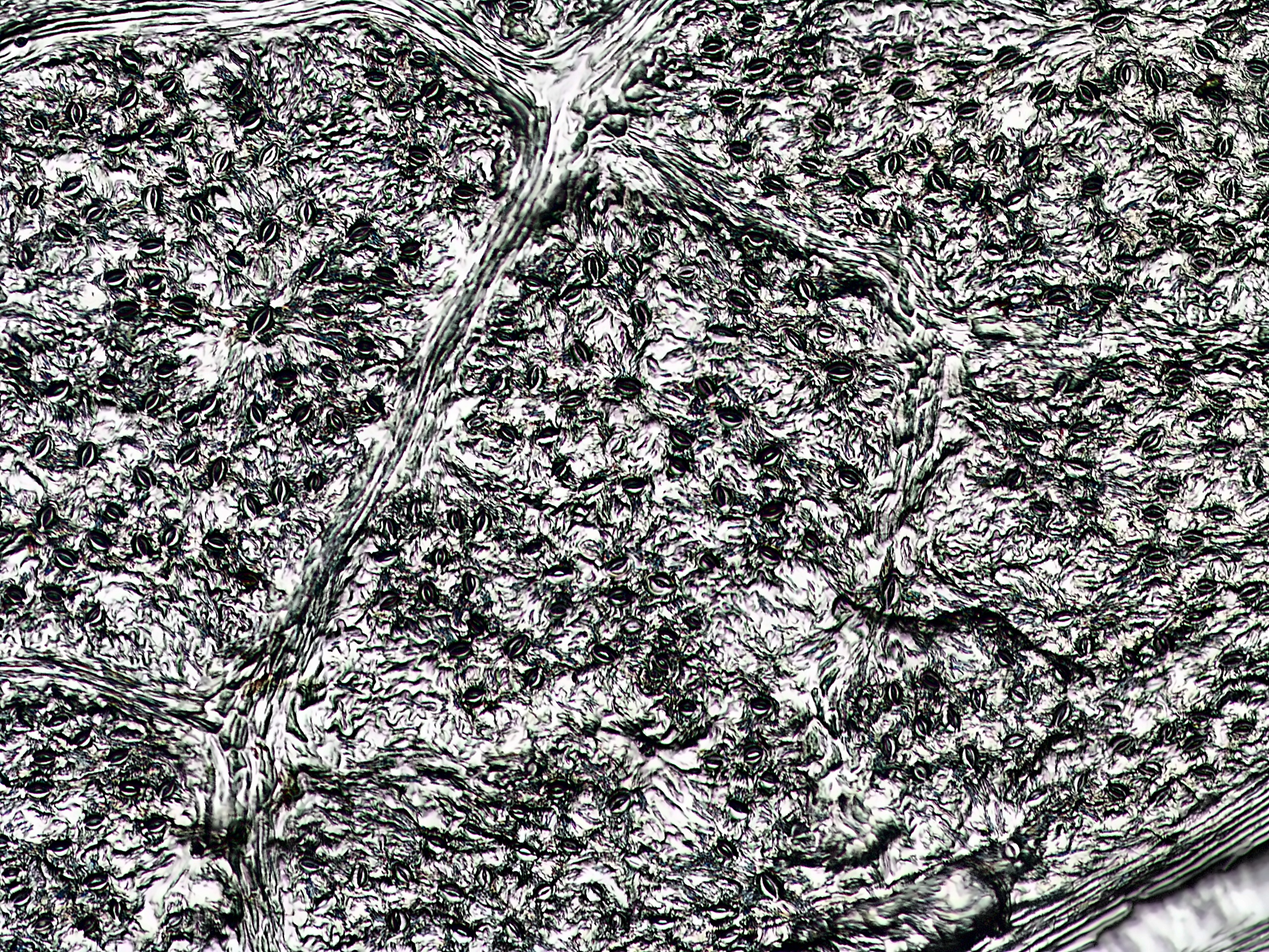stomata: (1092, 10, 1127, 31), (706, 324, 739, 345), (757, 870, 780, 900), (781, 327, 807, 353), (881, 574, 902, 606), (1145, 63, 1168, 92), (257, 219, 281, 246), (250, 307, 273, 335), (725, 291, 753, 314), (1190, 40, 1217, 63), (707, 903, 738, 923), (620, 251, 641, 280), (630, 299, 651, 328), (743, 58, 773, 78), (1111, 253, 1141, 273), (1061, 458, 1091, 478), (1029, 81, 1055, 104), (1242, 60, 1269, 82), (1162, 371, 1195, 389), (759, 502, 787, 523), (843, 169, 871, 190), (1076, 81, 1100, 105), (239, 109, 264, 132), (1137, 429, 1162, 452), (571, 339, 592, 366), (827, 362, 854, 383), (1118, 60, 1139, 87), (1143, 549, 1171, 569), (87, 530, 110, 554), (504, 635, 528, 658), (878, 153, 901, 177), (583, 254, 602, 283), (759, 176, 788, 195), (1053, 701, 1072, 730), (169, 297, 196, 317), (1044, 287, 1071, 307), (699, 38, 726, 58), (1149, 122, 1177, 141), (737, 13, 761, 35), (711, 91, 742, 108), (187, 200, 208, 225), (1184, 409, 1213, 427), (808, 115, 834, 135), (778, 75, 808, 92), (133, 465, 156, 487), (77, 443, 98, 467), (30, 435, 51, 459), (439, 883, 463, 904), (985, 140, 1006, 164), (272, 478, 292, 503), (449, 923, 474, 943), (142, 185, 161, 211), (649, 574, 675, 593), (22, 185, 44, 207), (46, 380, 68, 402), (387, 909, 408, 932), (757, 447, 780, 468), (422, 78, 443, 101), (224, 249, 244, 273), (349, 863, 369, 887), (1232, 248, 1256, 268), (1175, 171, 1203, 188), (1015, 427, 1043, 444), (102, 135, 127, 154), (406, 146, 431, 165), (346, 224, 371, 243), (387, 101, 412, 120), (37, 504, 56, 529), (1213, 135, 1232, 160), (591, 644, 617, 662), (527, 365, 545, 391), (894, 207, 912, 233), (65, 103, 86, 125), (671, 428, 693, 449), (796, 277, 817, 299), (927, 170, 948, 192), (1008, 191, 1030, 212), (1220, 178, 1241, 200), (711, 484, 731, 507), (759, 544, 782, 564), (1005, 466, 1025, 489), (1049, 610, 1076, 627), (297, 201, 316, 225), (248, 403, 266, 428), (132, 534, 150, 559), (525, 665, 543, 690), (718, 408, 743, 426), (615, 378, 640, 396), (579, 477, 604, 495), (371, 46, 396, 64), (164, 168, 190, 185), (372, 267, 398, 284), (24, 782, 50, 799), (745, 230, 771, 247), (985, 391, 1011, 408), (609, 792, 630, 813), (644, 227, 665, 248), (53, 549, 75, 569), (1019, 147, 1039, 169), (715, 838, 737, 858), (259, 143, 278, 166), (474, 865, 493, 888), (816, 323, 835, 346), (1052, 372, 1071, 395), (727, 801, 750, 820), (16, 245, 34, 269), (85, 874, 109, 892), (364, 71, 388, 89), (880, 733, 896, 760), (60, 178, 85, 195), (241, 493, 258, 518), (892, 81, 917, 98), (980, 246, 1005, 263), (211, 457, 225, 487), (176, 444, 196, 465), (648, 915, 676, 930), (947, 704, 962, 732), (118, 86, 137, 108), (144, 391, 163, 413), (307, 259, 326, 281), (118, 780, 140, 799), (537, 427, 559, 446), (742, 268, 761, 290), (1217, 222, 1239, 241), (112, 303, 138, 319), (339, 275, 365, 291), (203, 534, 229, 550), (141, 817, 167, 833), (545, 565, 571, 581), (1091, 287, 1117, 303), (1069, 422, 1095, 438), (1237, 585, 1263, 601), (623, 477, 646, 495), (560, 286, 583, 304), (855, 207, 878, 225), (1208, 441, 1231, 459), (41, 587, 65, 604), (606, 588, 630, 605), (956, 102, 980, 119), (1099, 404, 1126, 419), (996, 50, 1021, 66), (1145, 212, 1170, 228), (1244, 465, 1264, 485), (1220, 652, 1245, 668), (173, 123, 194, 142), (291, 406, 312, 425), (180, 407, 199, 428), (668, 455, 687, 476), (971, 183, 990, 204), (1009, 683, 1028, 704), (757, 772, 778, 791), (144, 275, 166, 293), (109, 899, 127, 921), (505, 919, 523, 941), (424, 835, 446, 853), (515, 844, 537, 862), (473, 512, 491, 534), (214, 150, 231, 173), (298, 857, 321, 874), (462, 573, 479, 596), (139, 238, 163, 254), (448, 642, 472, 658), (561, 392, 585, 408), (1142, 505, 1166, 521), (913, 714, 929, 738), (696, 377, 716, 396), (729, 143, 749, 162), (910, 137, 930, 156), (952, 143, 971, 163), (921, 670, 939, 691), (1097, 222, 1118, 240), (1003, 733, 1028, 748), (25, 115, 47, 132), (275, 369, 297, 386), (395, 862, 412, 884), (799, 157, 821, 174), (861, 57, 883, 74), (701, 754, 723, 771), (83, 814, 106, 830), (970, 688, 986, 711), (1208, 392, 1234, 406), (1136, 762, 1162, 776), (585, 883, 604, 902), (1082, 176, 1101, 195), (14, 147, 38, 162), (452, 185, 476, 200), (108, 748, 128, 766), (750, 697, 770, 715), (832, 86, 856, 101), (200, 394, 217, 415), (4, 586, 25, 603), (522, 276, 543, 293), (1176, 228, 1197, 245), (1106, 783, 1127, 800), (104, 270, 126, 286), (313, 303, 335, 319), (607, 558, 629, 574), (1029, 500, 1052, 515), (86, 205, 105, 223), (329, 412, 347, 431), (699, 553, 718, 571), (839, 470, 858, 488), (995, 647, 1013, 666), (163, 526, 180, 546), (409, 50, 429, 67), (1020, 234, 1040, 251), (1206, 507, 1232, 520), (9, 889, 30, 905), (799, 37, 820, 53), (961, 745, 975, 769), (1111, 737, 1132, 753), (52, 225, 74, 240), (1185, 736, 1207, 751), (138, 119, 156, 137), (549, 780, 567, 798), (73, 728, 90, 747), (464, 687, 483, 704), (658, 629, 677, 646), (745, 745, 762, 764), (912, 762, 929, 781), (1003, 840, 1020, 859), (953, 61, 976, 75), (158, 77, 178, 93), (86, 605, 102, 625), (355, 339, 376, 354), (34, 750, 55, 765), (886, 681, 901, 702), (1231, 721, 1252, 736), (1155, 480, 1179, 493), (1192, 765, 1216, 778), (400, 241, 422, 255), (229, 81, 247, 98), (535, 883, 552, 901), (678, 698, 696, 715), (803, 533, 821, 550), (321, 364, 340, 380), (305, 473, 321, 492), (1078, 498, 1097, 514), (98, 374, 118, 389), (448, 510, 463, 530), (892, 44, 915, 57), (1189, 257, 1210, 271), (1195, 578, 1216, 592), (364, 398, 381, 415), (158, 782, 175, 799), (1179, 532, 1203, 544), (2, 357, 24, 370), (622, 620, 644, 633), (106, 503, 121, 522), (420, 584, 435, 603), (1161, 723, 1176, 742), (625, 854, 645, 868), (498, 426, 518, 440), (1072, 771, 1086, 791), (493, 333, 516, 345), (1205, 92, 1226, 105), (561, 837, 578, 853), (51, 841, 69, 856), (511, 804, 529, 819), (47, 717, 66, 731), (409, 498, 421, 520), (468, 616, 484, 632), (683, 612, 699, 628), (550, 603, 567, 618), (1027, 788, 1045, 802), (1, 867, 20, 880), (551, 462, 567, 477), (498, 306, 518, 318), (433, 548, 447, 565), (35, 916, 52, 930), (678, 265, 695, 279), (156, 364, 174, 377), (383, 519, 396, 537), (1079, 637, 1091, 654), (654, 656, 670, 668)
